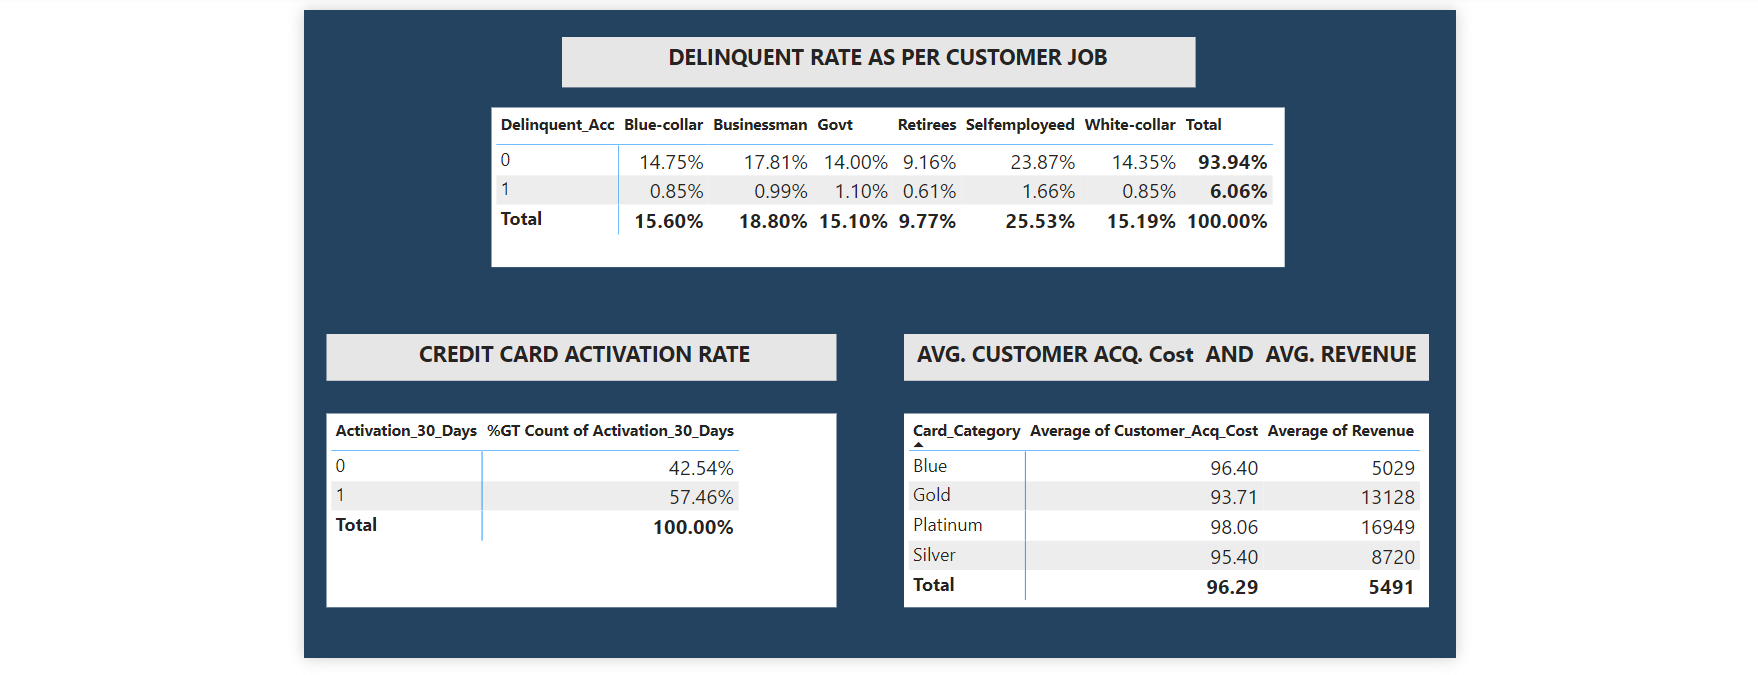

Layout of this report page (visuals, bound fields, positions):
{"tool":"powerbi","page":{"name":"Key Credit Card Matrices","canvas":[1280,720],"ordinal":2},"visuals":[{"type":"pivotTable","fields":{"Rows":["credit_card.Delinquent_Acc"],"Values":["Sum(credit_card.Delinquent_Acc)"],"Columns":["customer.Customer_Job"]},"box":[208.6,108.6,881.4,177.1],"z":0},{"type":"pivotTable","fields":{"Rows":["credit_card.Activation_30_Days"],"Values":["Sum(credit_card.Activation_30_Days)"]},"box":[25,448.3,566.7,215],"z":1000},{"type":"textbox","box":[287.1,30,704.3,55.7],"z":2000},{"type":"textbox","box":[25,360,566.7,51.7],"z":3000},{"type":"pivotTable","fields":{"Rows":["credit_card.Card_Category"],"Values":["Avg(credit_card.Customer_Acq_Cost)","Avg(credit_card.Revenue)"]},"box":[666.7,448.3,583.3,215],"z":4000},{"type":"textbox","box":[666.7,360,583.3,51.7],"z":5000}]}

Visuals, with their boxes on the page's 1280x720 design canvas (x1, y1, x2, y2). These are canvas units, not pixel positions in the 1758x675 screenshot, which may show the page scaled, cropped or inside an application window:
pivotTable - credit_card.Delinquent_Acc x Sum(credit_card.Delinquent_Acc): (209,109,1090,286)
pivotTable - credit_card.Activation_30_Days x Sum(credit_card.Activation_30_Days): (25,448,592,663)
textbox: (287,30,991,86)
textbox: (25,360,592,412)
pivotTable - credit_card.Card_Category x Avg(credit_card.Customer_Acq_Cost): (667,448,1250,663)
textbox: (667,360,1250,412)
